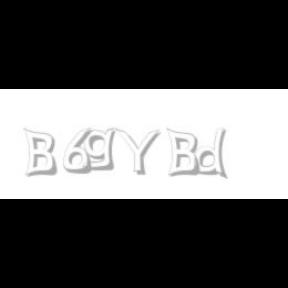6: (64, 128, 92, 176)
B: (23, 128, 57, 178), (166, 128, 200, 178)
Y: (114, 128, 160, 176)
d: (195, 128, 232, 180)
g: (82, 128, 119, 171)
